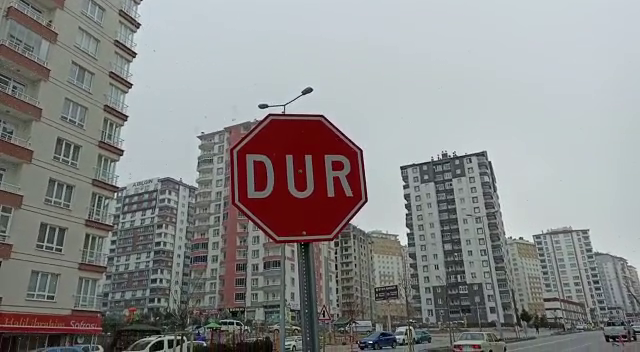stop: (225, 110, 372, 247)
